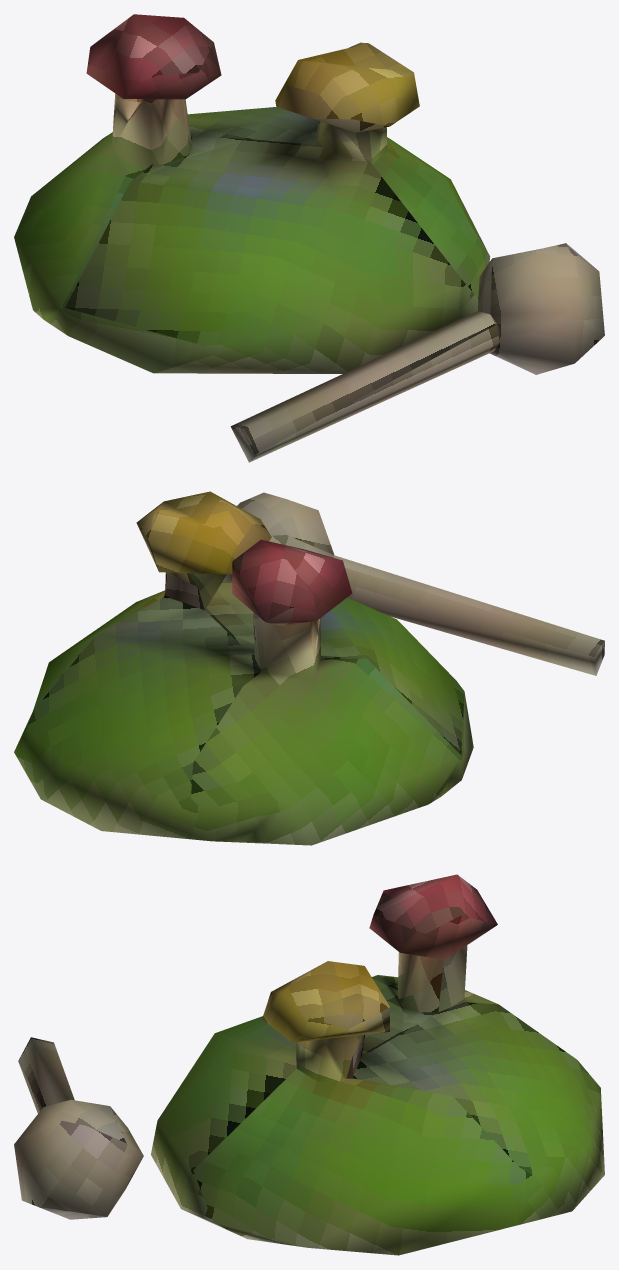
The model's file is POUNDING_MUSHROOMS-low.glb.
3 renders of one model, top to bottom at view 1: azimuth 30°, elevation 25°; view 2: azimuth 150°, elevation 25°; view 3: azimuth 270°, elevation 25°, orthographic. The views are drawn at different scales.
Parts seen in each view (by area): view 1: POUNDING_MUSHROOMS; view 2: POUNDING_MUSHROOMS; view 3: POUNDING_MUSHROOMS.
Part boxes in pixels (left/top/right/bottom): POUNDING_MUSHROOMS: left=14, top=14, right=604, bottom=462; POUNDING_MUSHROOMS: left=14, top=491, right=604, bottom=845; POUNDING_MUSHROOMS: left=14, top=874, right=604, bottom=1255.
Bounding box in the file's own units: 0.1628 × 0.0982 × 0.2091.
Materials: 1 (1 with a texture image).
